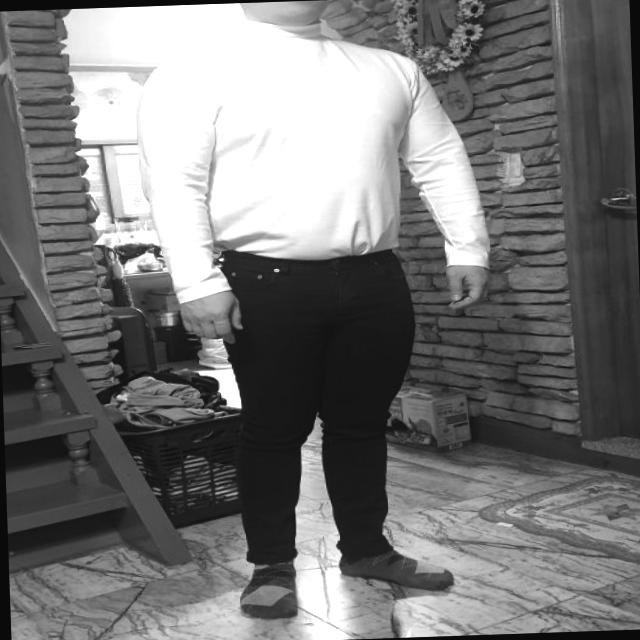denimpants: (215, 237, 422, 564)
longsleeve: (134, 10, 494, 305)
